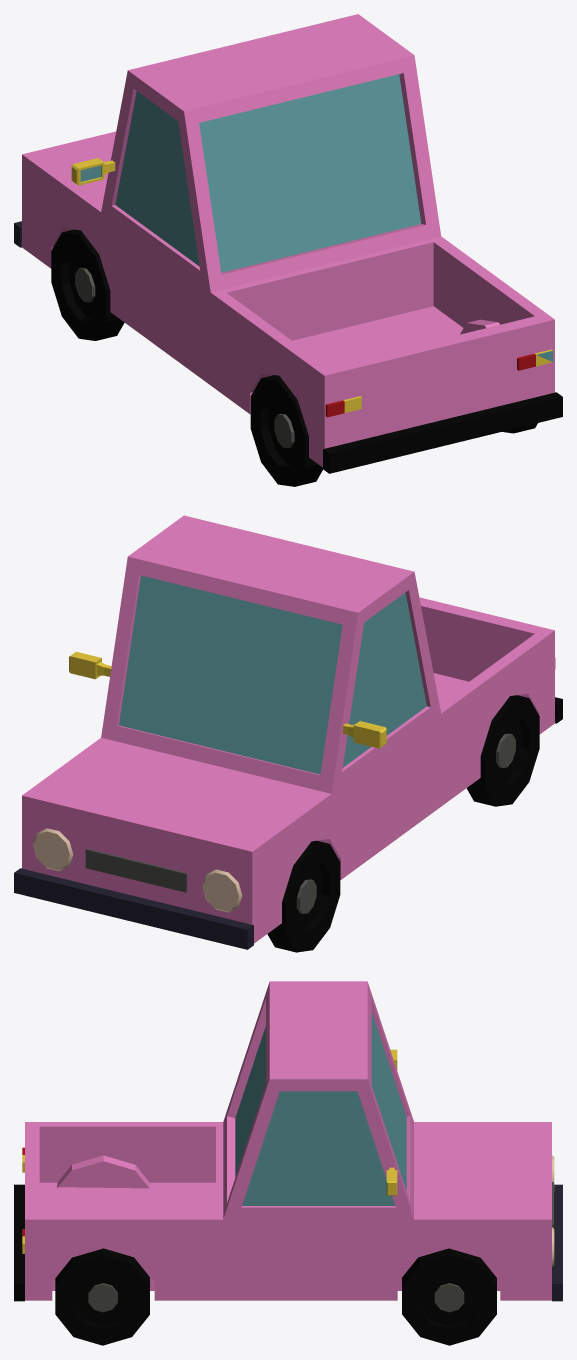
File: car_1.fbx
The picture shows the model from 3 angles, top to bottom: view 1: azimuth 30°, elevation 25°; view 2: azimuth 150°, elevation 25°; view 3: azimuth 270°, elevation 25°; orthographic projection. The views are drawn at different scales.
Parts seen in each view (by area): view 1: car 1; view 2: car 1; view 3: car 1.
Boxes of the visible parts, bbox=[...] form: car 1: bbox=[14, 14, 562, 486]; car 1: bbox=[14, 515, 562, 952]; car 1: bbox=[14, 981, 562, 1345].
Size of the model in its own units: 261 by 241 by 456.
